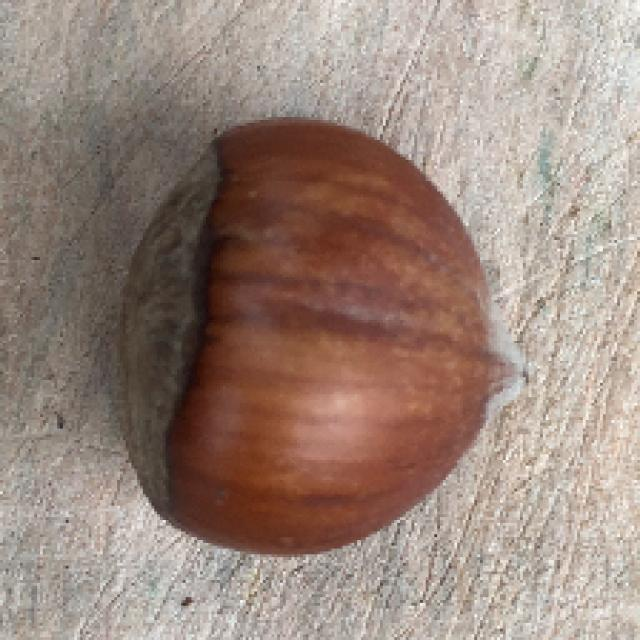qualityHazelnut: (109, 113, 526, 561)
